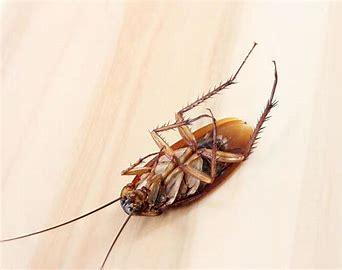cockroach: (25, 21, 302, 266)
